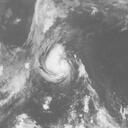cyclone: (35, 43, 72, 85)
